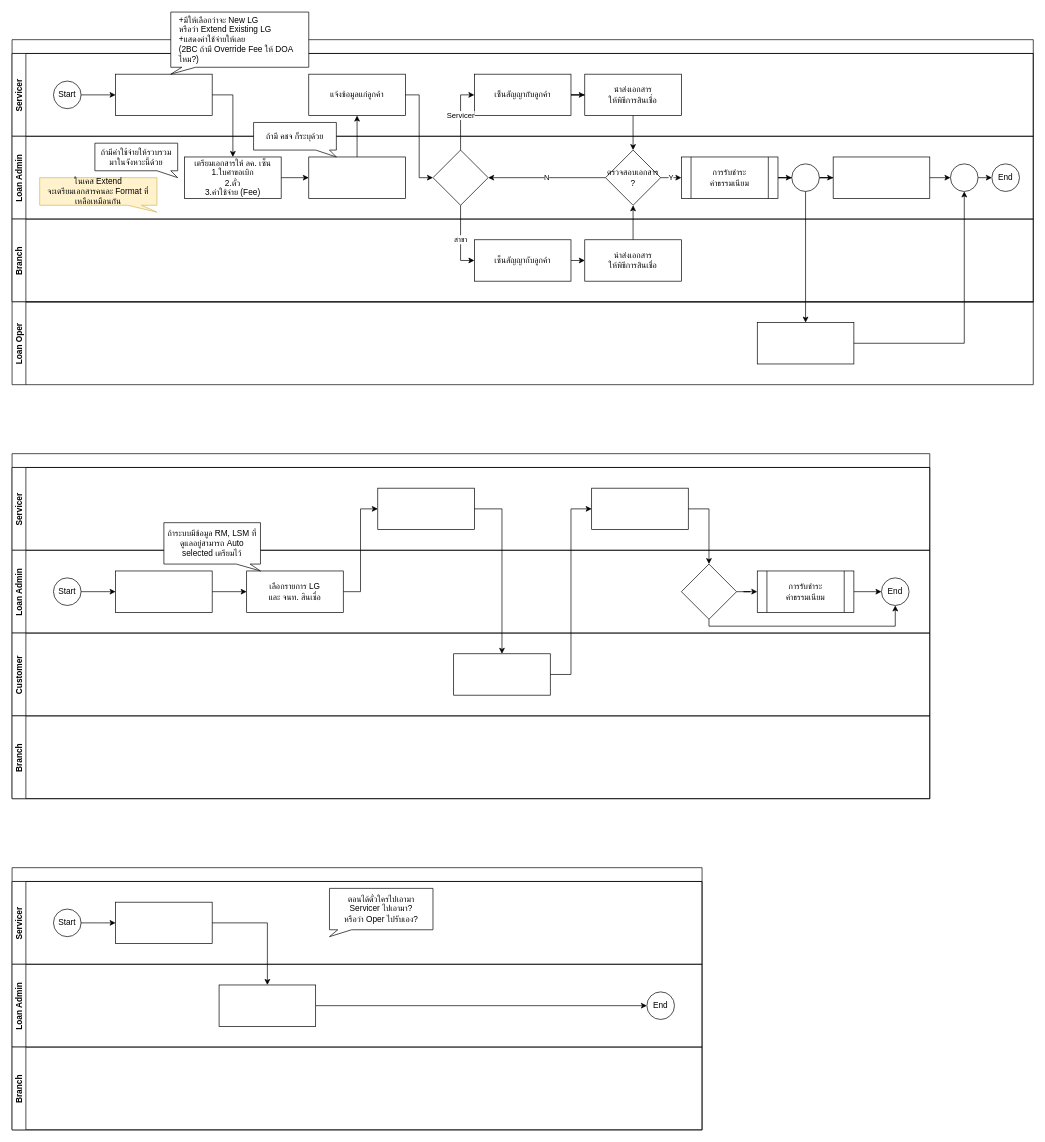
Some shapes in this 1045 by 1142 pixel diagram are drawn without their labels. Here are the shapes that lost their labels. From the top down, the box of each, then its label:
(115, 73, 212, 116): +ระบุข้อมูล LGAVAL ที่ต้องการออก +ระบุสถานที่ ลค. รับตั๋ว
(308, 156, 405, 198): อัพเดทสถานะงาน ให้ Servicer รับทราบ
(432, 149, 488, 205): สถานที่ เซ็นสัญญา และมอบตั๋ว
(11, 39, 1033, 302): LGAVAL Issue / Extend
(791, 163, 819, 191): Split
(832, 156, 930, 198): เก็บเอกสารที่ Strong Room
(757, 322, 854, 364): รับชำระค่าบริการ (Fee)
(377, 487, 474, 530): รับงานและแจ้งลูกค้า
(591, 487, 688, 530): คืน LG ให้พิธีการ
(115, 570, 212, 612): ตรวจสอบรายการ LG ใกล้ครบกำหนด เพื่อแจ้ง จนท. สินเชื่อ
(681, 563, 737, 619): มีการคืนล่าช้า ?
(11, 453, 930, 799): LGAVAL Return
(453, 653, 550, 695): คืน LG ให้แก่ Servicer
(115, 901, 212, 944): 1.ค้นหาข้อมูลลูกค้า/ใบ LG ที่ต้องการ 2.Fill in ข้อมูลที่เกี่ยวข้อง
(218, 984, 316, 1026): ตรวจสอบข้อมูลในการ Claim
(11, 867, 702, 1130): LGAVAL Claim
